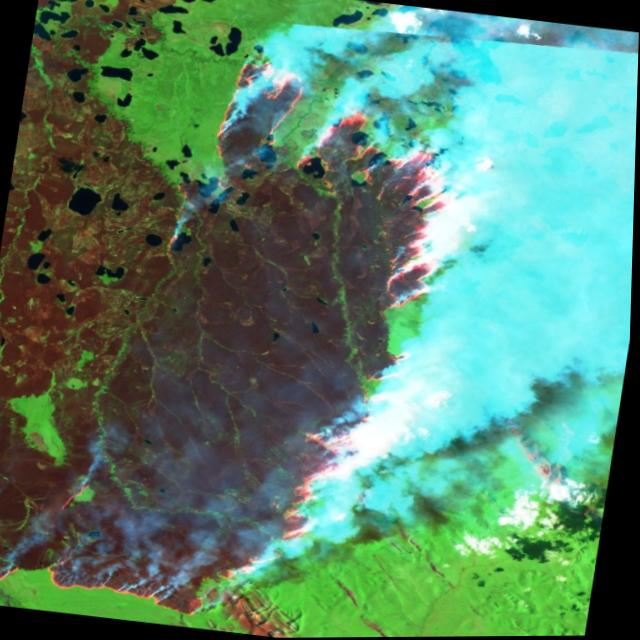fire: (0, 10, 517, 640)
